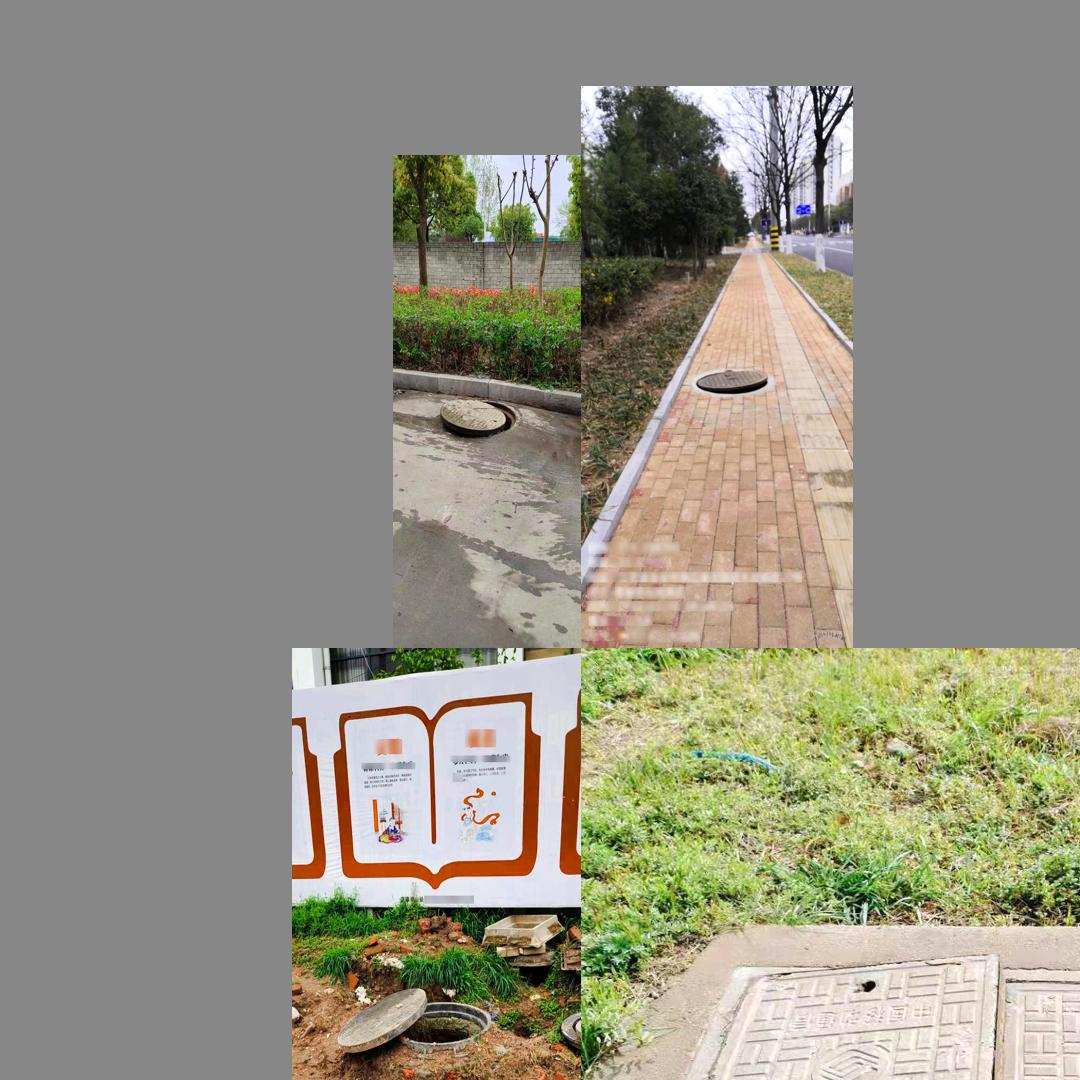uncovered: (607, 966, 1080, 1080), (330, 979, 505, 1056), (438, 396, 521, 440), (693, 369, 771, 395)
